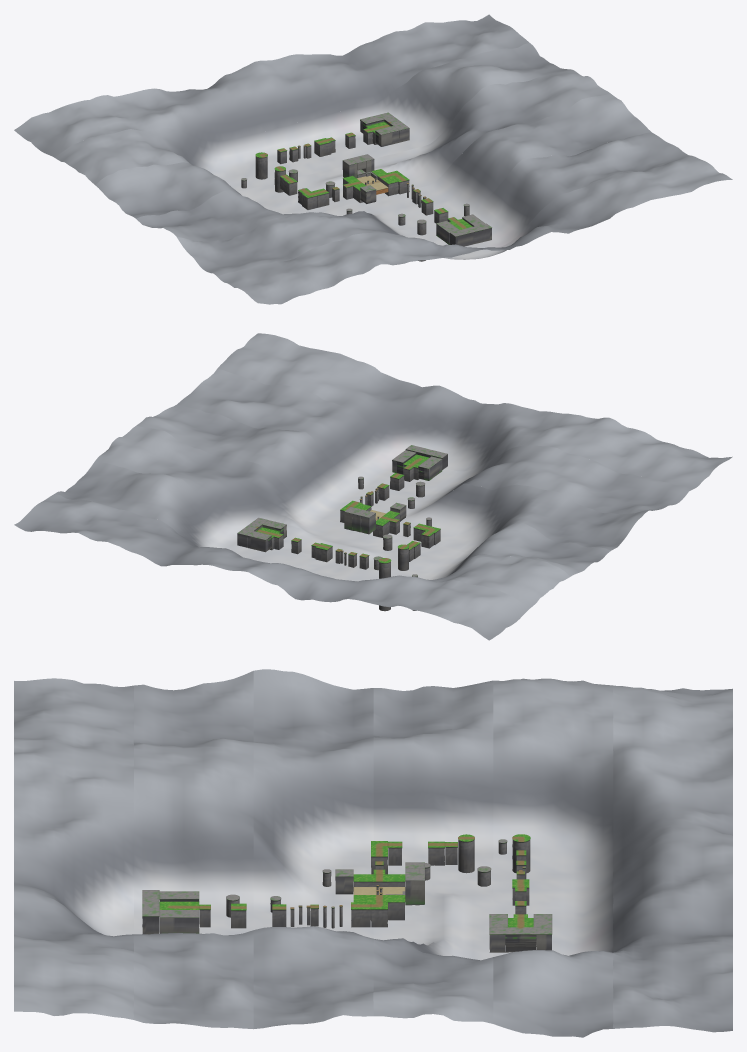
Rendered from cloud_bridges_terrain.glb.
3 renders of one model, top to bottom at view 1: azimuth 30°, elevation 25°; view 2: azimuth 150°, elevation 25°; view 3: azimuth 270°, elevation 25°, orthographic. The views are drawn at different scales.
Visible parts, largest first — view 1: backdrop_5, backdrop_4, backdrop_2, backdrop_3, backdrop_1, backdrop_0, terrain_D, terrain_A, terrain_J, terrain_H, terrain_B, terrain_E (+1 smaller); view 2: backdrop_0, backdrop_2, backdrop_1, backdrop_3, backdrop_5, backdrop_4, terrain_D, terrain_A, terrain_J, terrain_H, terrain_B, terrain_E; view 3: backdrop_5, backdrop_0, backdrop_4, backdrop_2, backdrop_1, backdrop_3, terrain_D, terrain_A, terrain_J, terrain_G, terrain_B, terrain_C (+3 smaller).
Part boxes in pixels (x1=…): backdrop_5: x1=14, y1=14, x2=529, y2=157; backdrop_4: x1=55, y1=43, x2=569, y2=191; backdrop_2: x1=136, y1=94, x2=651, y2=241; backdrop_3: x1=95, y1=69, x2=610, y2=218; backdrop_1: x1=177, y1=132, x2=691, y2=276; backdrop_0: x1=217, y1=156, x2=732, y2=304; terrain_D: x1=342, y1=154, x2=402, y2=203; terrain_A: x1=436, y1=214, x2=491, y2=246; terrain_J: x1=360, y1=112, x2=409, y2=146; terrain_H: x1=255, y1=138, x2=331, y2=179; terrain_B: x1=398, y1=198, x2=469, y2=261; terrain_E: x1=301, y1=181, x2=353, y2=214; backdrop_0: x1=217, y1=333, x2=732, y2=489; backdrop_2: x1=136, y1=404, x2=650, y2=552; backdrop_1: x1=177, y1=369, x2=691, y2=514; backdrop_3: x1=95, y1=426, x2=610, y2=579; backdrop_5: x1=14, y1=494, x2=529, y2=640; backdrop_4: x1=55, y1=461, x2=569, y2=608; terrain_D: x1=340, y1=502, x2=406, y2=537; terrain_A: x1=392, y1=445, x2=447, y2=480; terrain_J: x1=237, y1=517, x2=286, y2=552; terrain_H: x1=315, y1=543, x2=391, y2=611; terrain_B: x1=358, y1=465, x2=425, y2=508; terrain_E: x1=383, y1=517, x2=431, y2=550; backdrop_5: x1=613, y1=685, x2=732, y2=1032; backdrop_0: x1=14, y1=678, x2=133, y2=1019; backdrop_4: x1=493, y1=678, x2=613, y2=1037; backdrop_2: x1=253, y1=669, x2=373, y2=1028; backdrop_1: x1=133, y1=671, x2=253, y2=1028; backdrop_3: x1=373, y1=680, x2=493, y2=1023; terrain_D: x1=335, y1=862, x2=424, y2=927; terrain_A: x1=142, y1=890, x2=199, y2=934; terrain_J: x1=489, y1=914, x2=552, y2=952; terrain_G: x1=445, y1=834, x2=507, y2=886; terrain_B: x1=199, y1=894, x2=286, y2=928; terrain_C: x1=290, y1=902, x2=370, y2=928.
Size of the model in its own units: 567 by 91.03 by 504.
